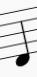D: (8, 6, 34, 67)
